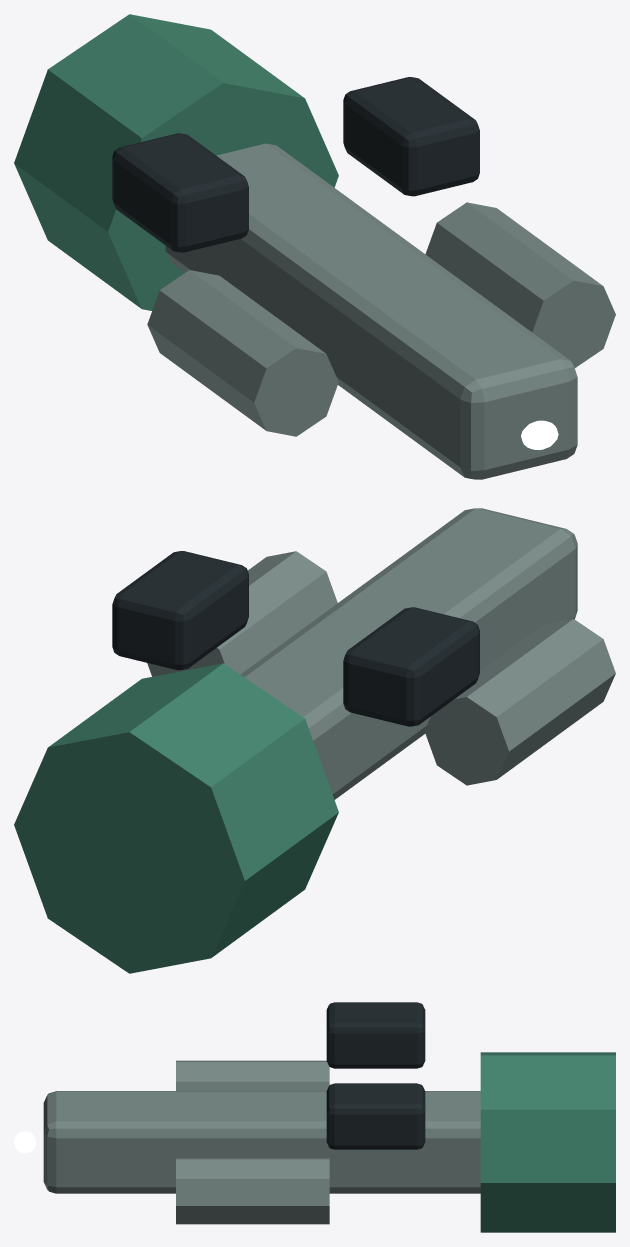
3 renders of one model, top to bottom at view 1: azimuth 30°, elevation 25°; view 2: azimuth 150°, elevation 25°; view 3: azimuth 270°, elevation 25°, orthographic. The views are drawn at different scales.
Visible parts, largest first — view 1: RIMWARD_HULL, RIMWARD_ENGINE_GLOW; view 2: RIMWARD_HULL; view 3: RIMWARD_HULL, RIMWARD_ENGINE_GLOW.
Boxes of the visible parts, box(x1,y1,x2,y2) form: RIMWARD_HULL: box(14, 14, 615, 479); RIMWARD_ENGINE_GLOW: box(521, 420, 558, 449); RIMWARD_HULL: box(14, 508, 615, 973); RIMWARD_HULL: box(43, 1002, 615, 1232); RIMWARD_ENGINE_GLOW: box(14, 1131, 35, 1153).
Bounding box in the file's own units: 8.31 × 5.37 × 16.63.
